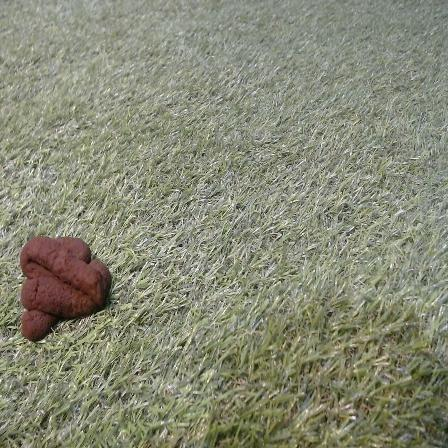dog-poop: (20, 233, 112, 352)
